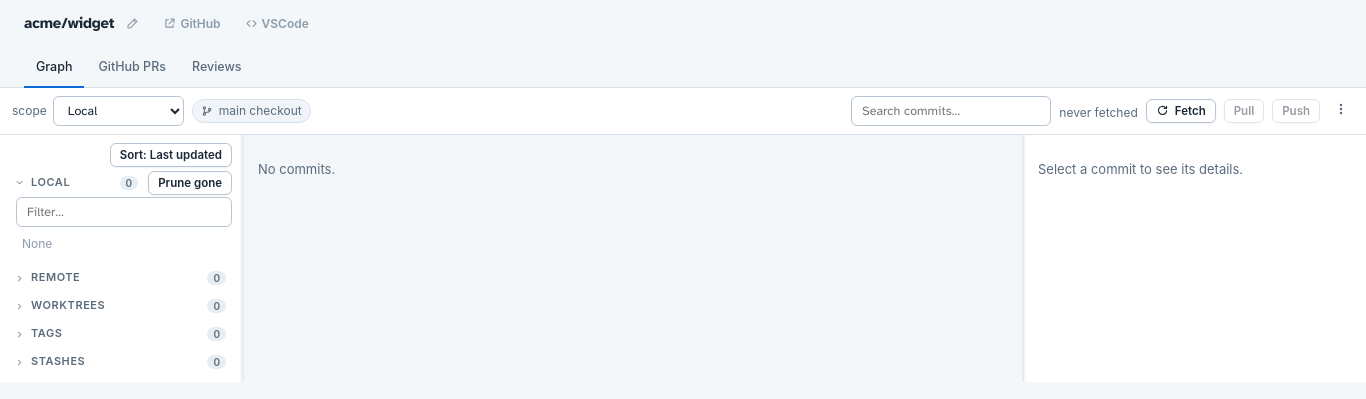
Scenario: RepoView PR list › staleness label appears after first load
Click the button "GitHub PRs". click: (132, 68)
box: [86, 49, 178, 88]
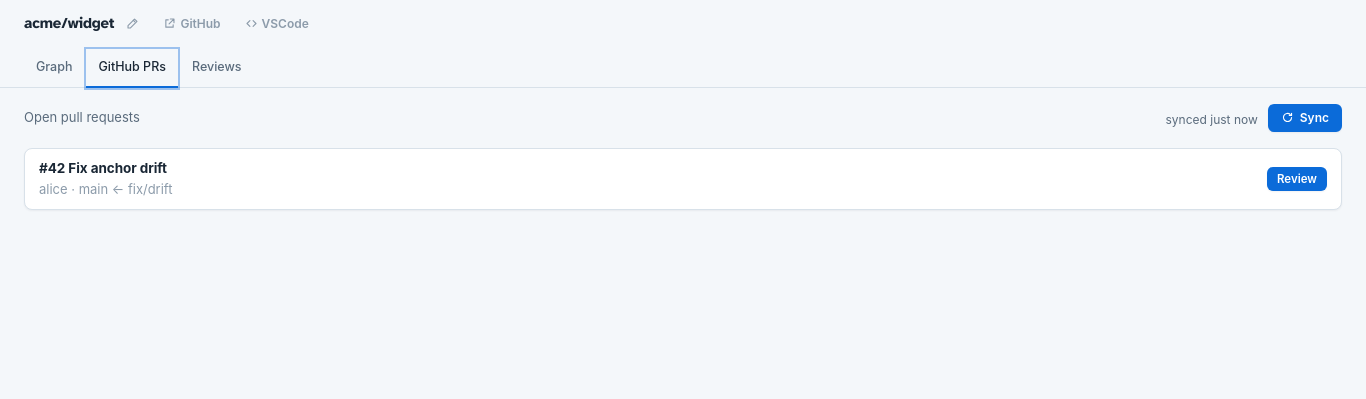
Expected: the text "#42 Fix anchor drift" is shown, [39, 160, 167, 176]
Expected: the text "synced just now" is shown, [1166, 111, 1258, 128]
